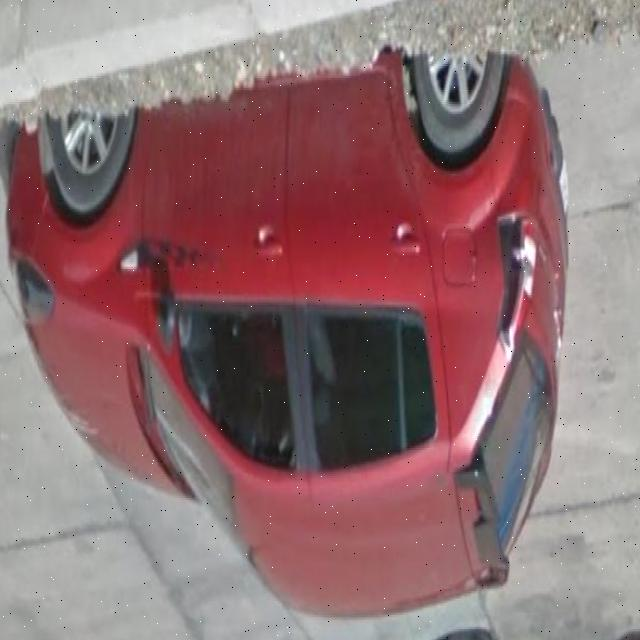car: (4, 61, 572, 607)
